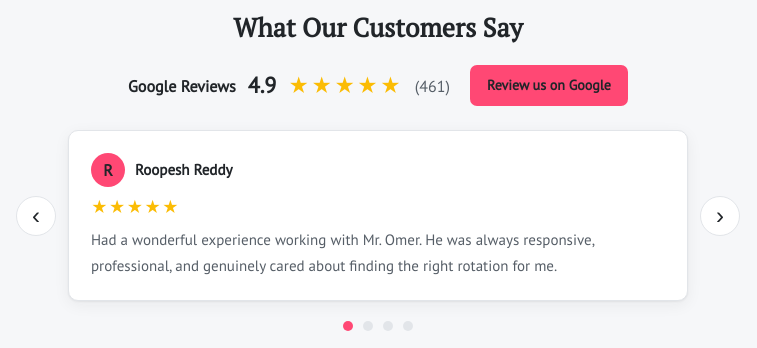
Scenario: CustomerReviews › wraps from the first review to the last when going previous
Click the button named "Previous review" at (36, 216), box [16,196,56,236]
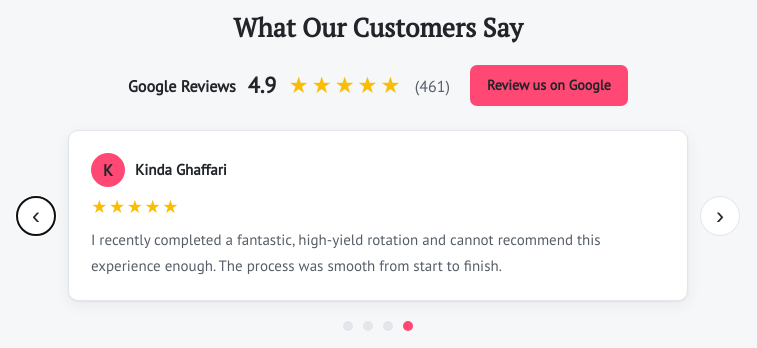
Now the text "Kinda Ghaffari" is shown, box [135,159,227,181]
